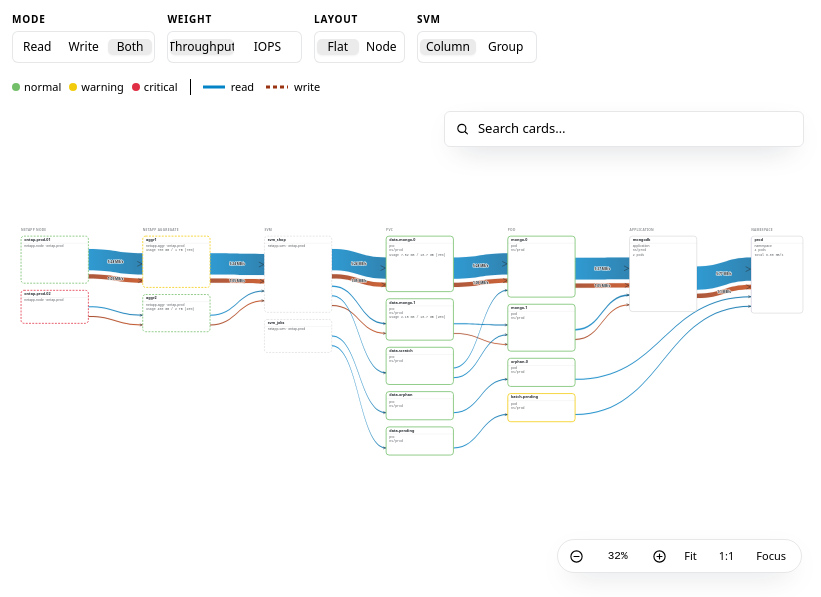
Test: SankeyView › Switching mode recomputes immediately
expect the element with test id "sankey-link-read" is shown: met, box [210, 253, 264, 275]
Click the radio button labelled "Write" at (84, 46), box [69, 38, 99, 55]
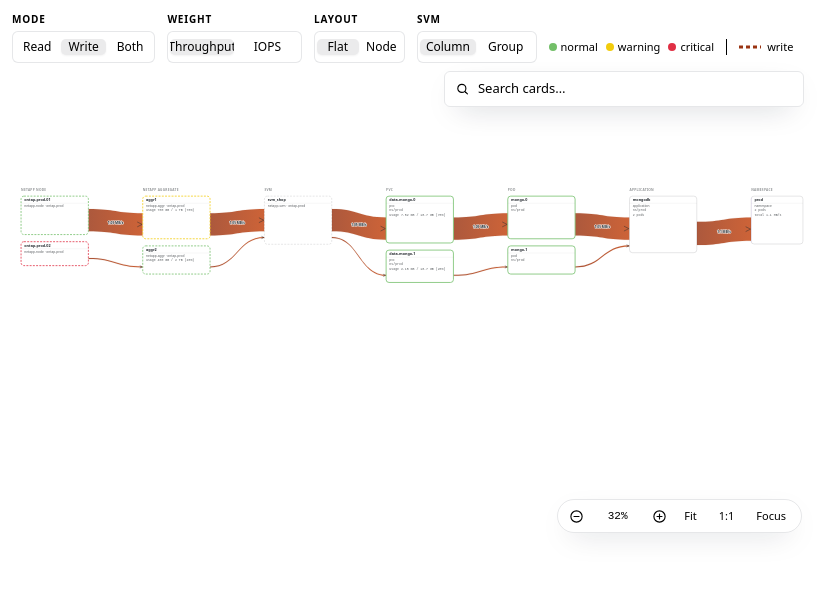
expect the element with test id "sankey-link-write" is shown: met, box [210, 209, 264, 236]
expect the element with test id "sankey-legend-read" is gone: met
